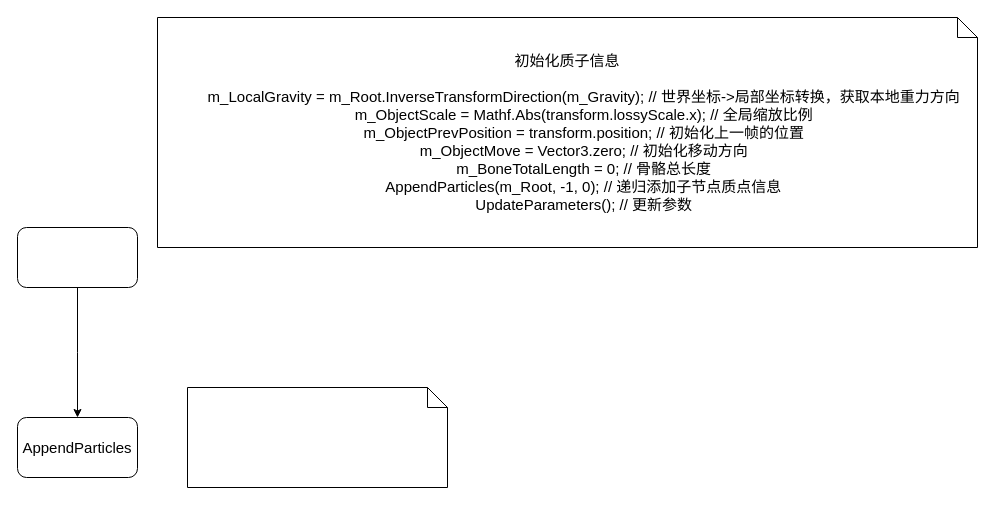
This 995x505 diagram has some shape labels left out. Here are the shapes that lost their labels. From the top down, the centre of each, then its label:
point 77,257: setupParticles
point 317,437: 递归初始化质子，同时还创建尾节点的质子
